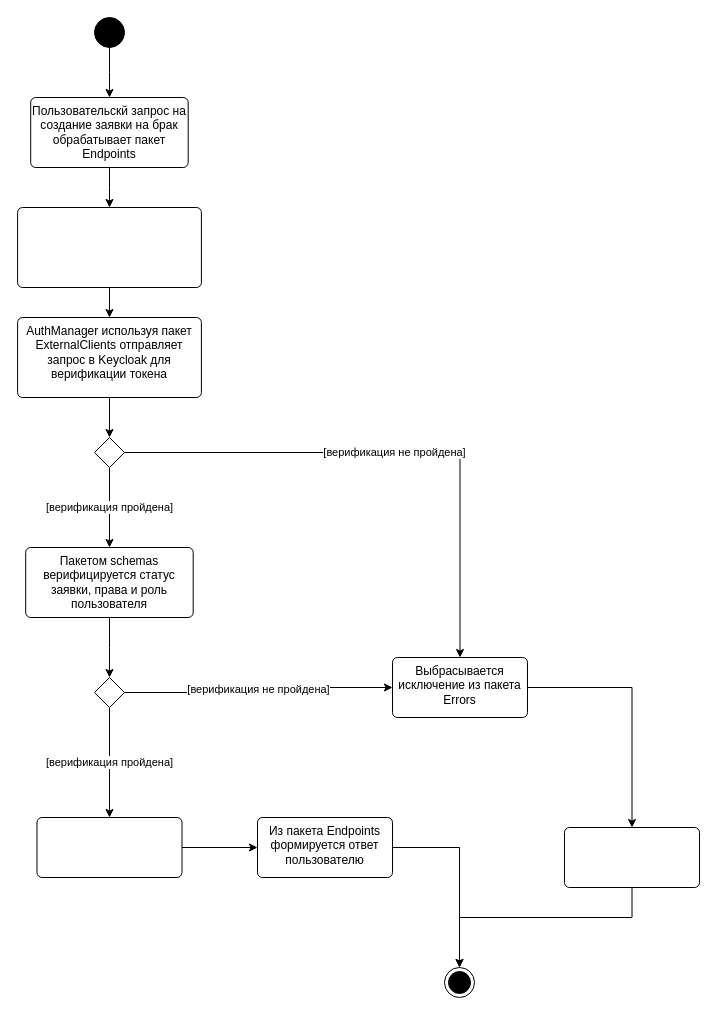
The diagram is 717 pixels wide and 1015 high, and some of its shapes have lost their labels. Each missing label, with the box of its shape:
В пакете services происходит создание заявки на брак: (36, 816, 182, 878)
Из пакета app формируется ответ пользователю: (564, 826, 700, 888)
Отправляется запрос на верификацию пользователя через AuthManager: (17, 206, 201, 288)
